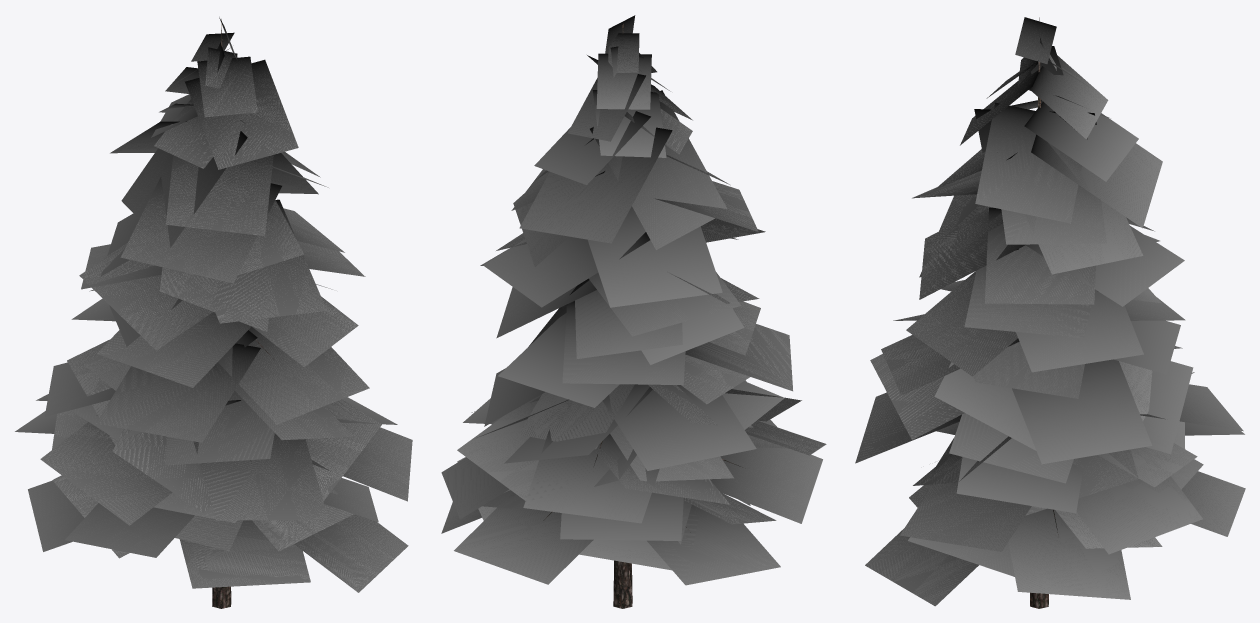
File: tree14B.fbx
The picture shows the model from 3 angles, left to right: view 1: azimuth 30°, elevation 25°; view 2: azimuth 150°, elevation 25°; view 3: azimuth 270°, elevation 25°; orthographic projection.
Visible parts, largest first — view 1: tree; view 2: tree; view 3: tree.
Boxes of the visible parts, x1,y1,x2,y2 form: tree: (15,17,412,608); tree: (441,15,826,608); tree: (855,17,1245,608).
Size of the model in its own units: 3.51 by 5.56 by 3.33.
